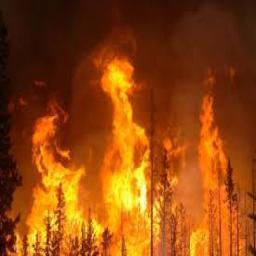Large fire: (14, 79, 93, 256), (95, 40, 159, 256)
Medium fire: (197, 71, 246, 256)
